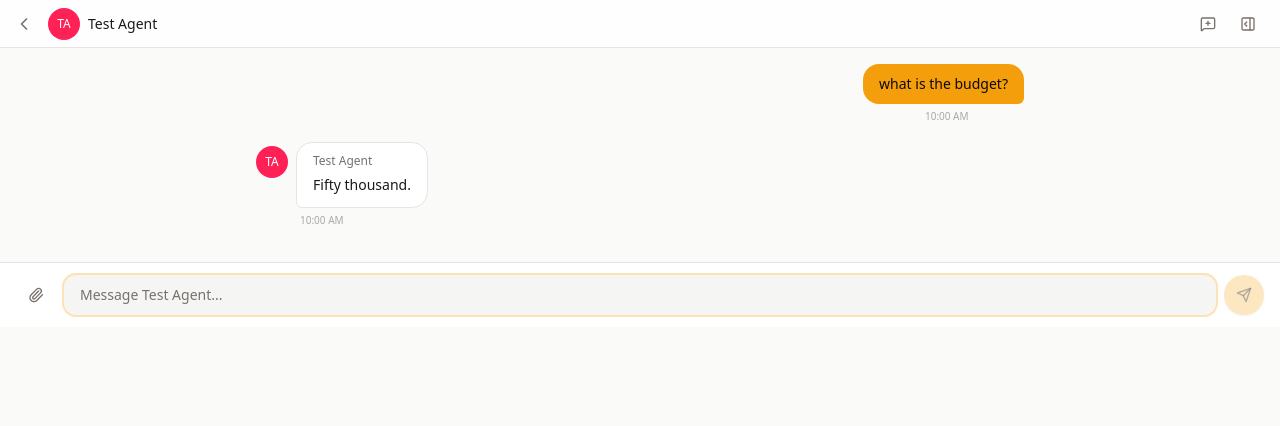
WorkforceThread — New conversation › clears the transcript so the new conversation starts empty
The image size is (1280, 426).
Expected: the 1st text "Test Agent" is shown, [88,14,157,34]
Expected: the text box is enabled, [64,275,1216,315]
Click the button named "New conversation": (1208, 24) [1192,8,1224,40]
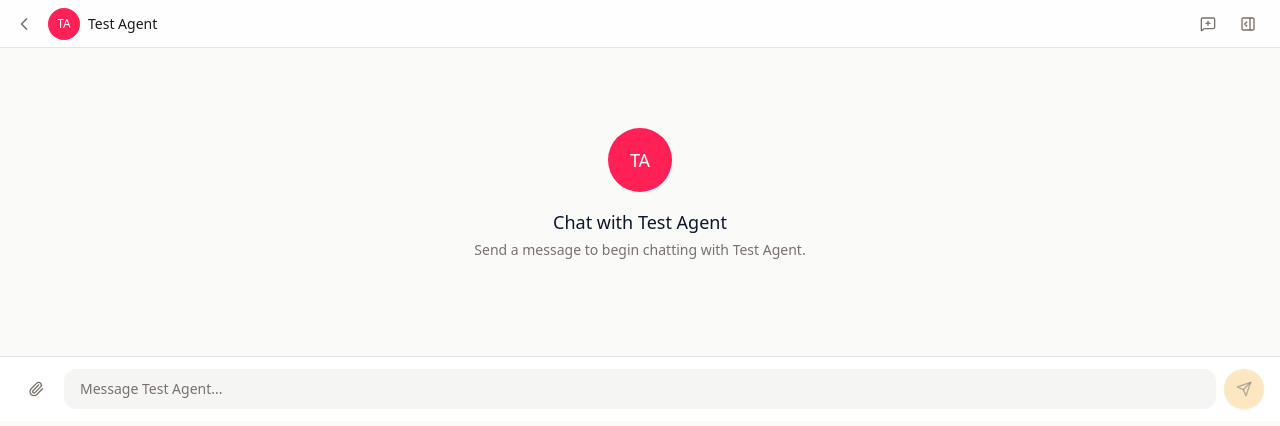
Now the text "Fifty thousand." is gone
